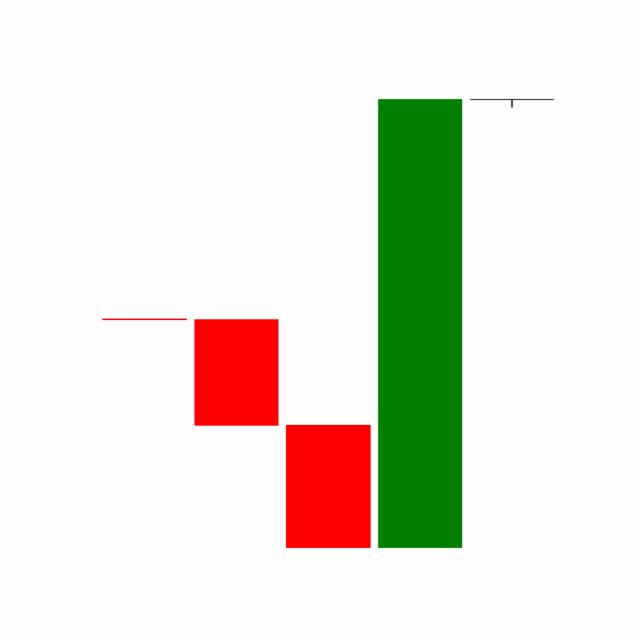Hammer: (464, 98, 558, 107)
